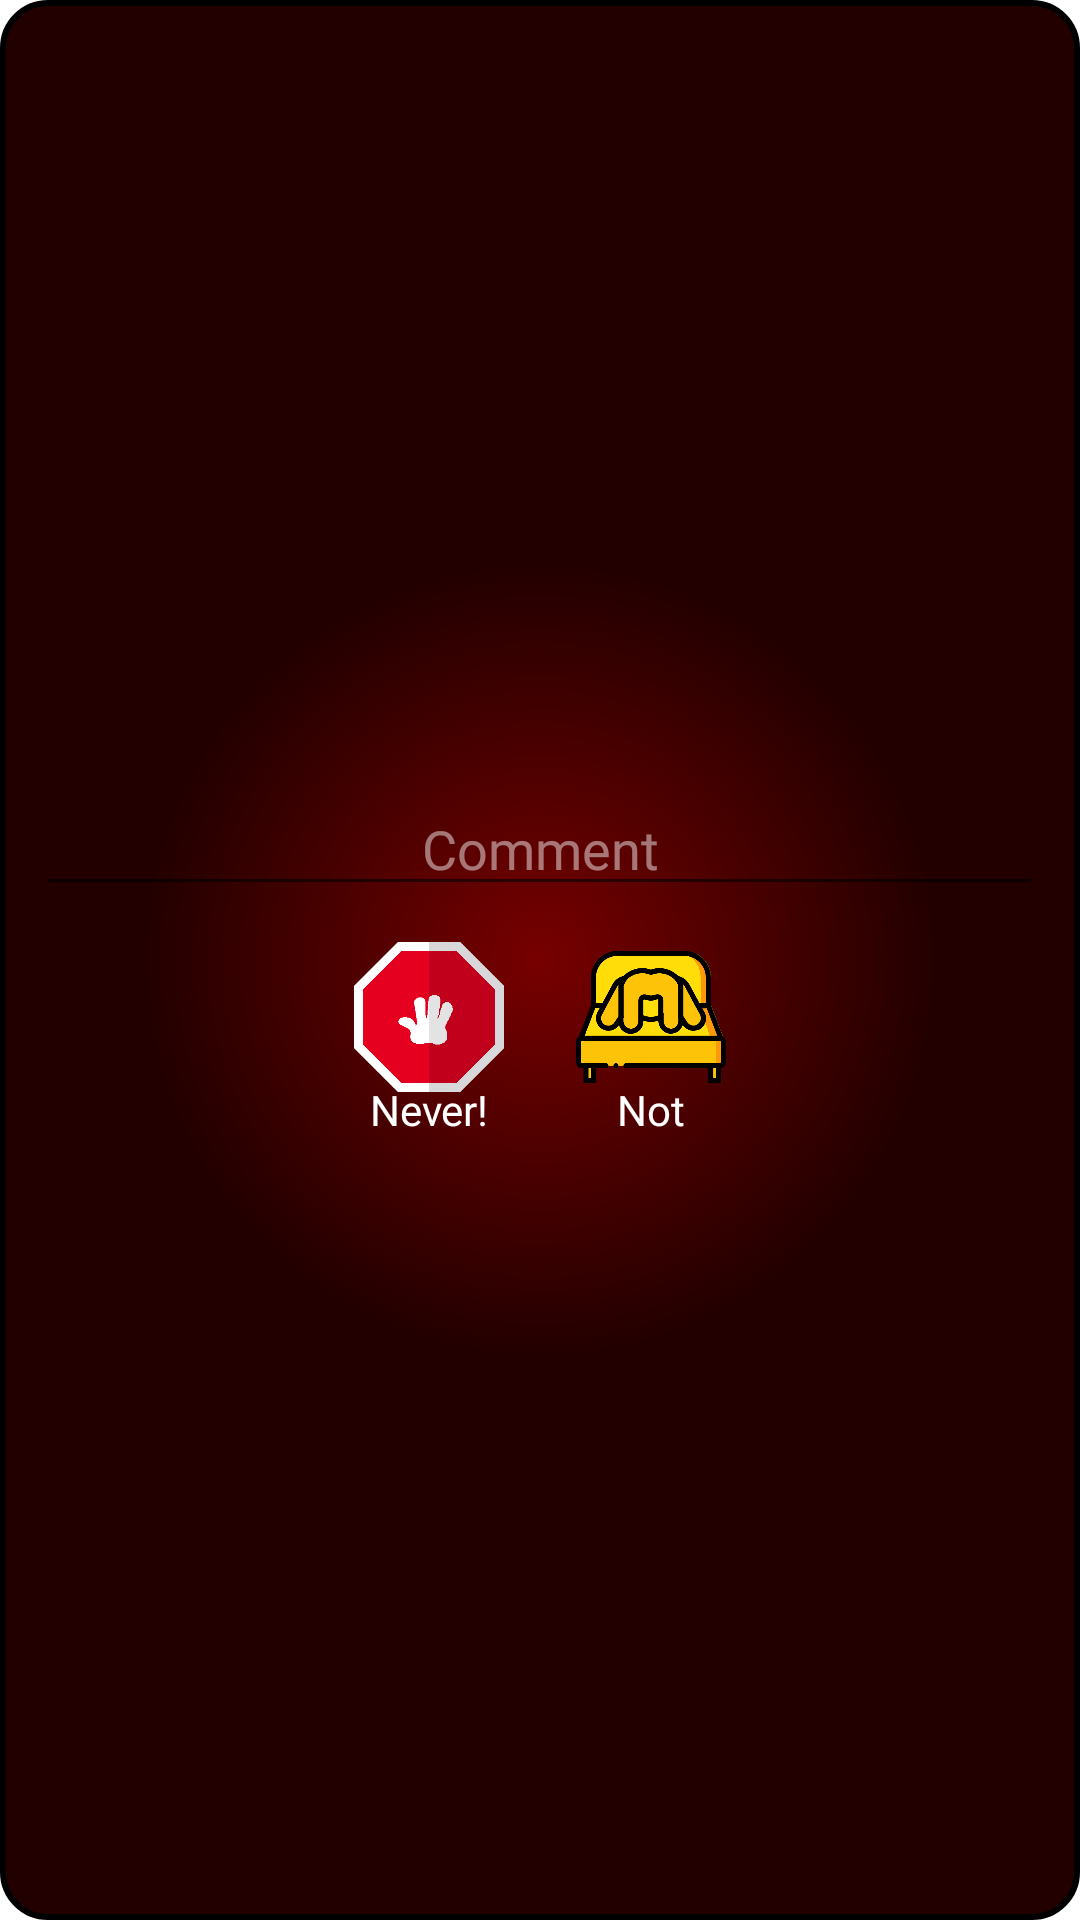

Point at icon controls on the screen. Image size 1080 × 1920, points as (x,y).
sex: (651,1012)
